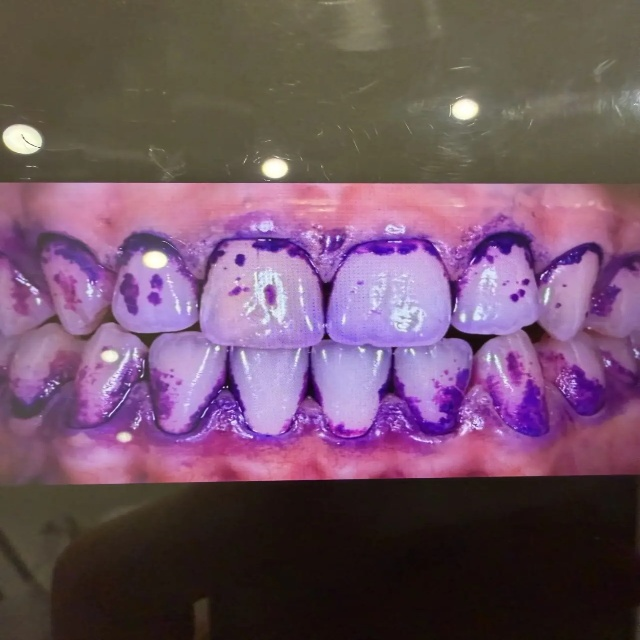clean_tooth: (340, 0, 375, 35), (3, 124, 40, 154), (449, 93, 481, 124), (260, 155, 289, 178)
plaque: (0, 183, 639, 478)
